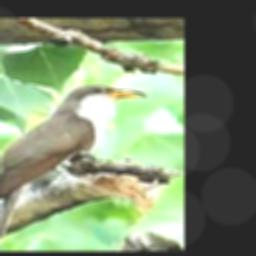Cuckoo: (0, 85, 149, 251)
